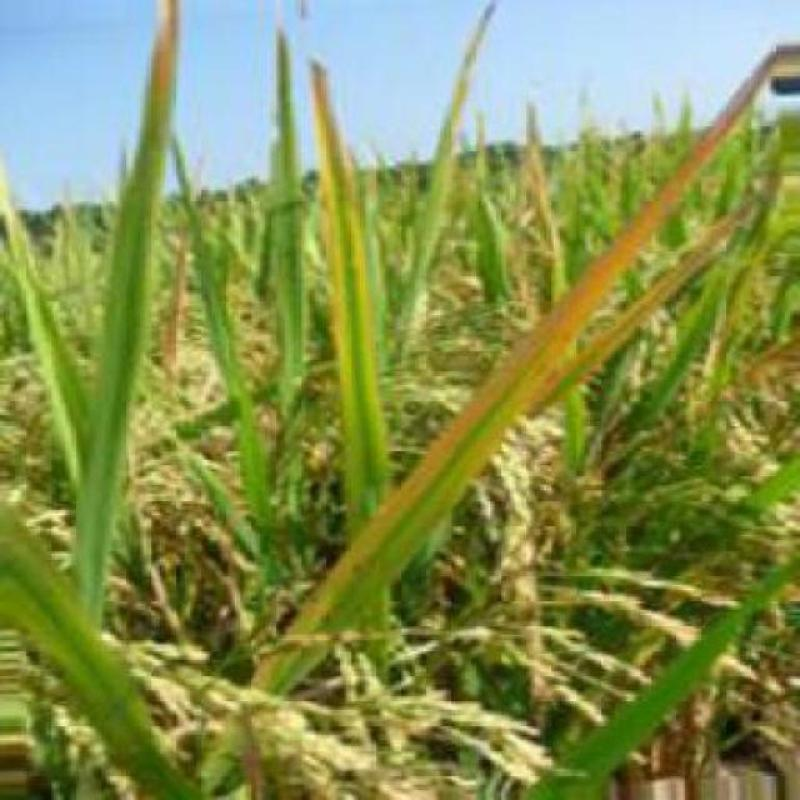Rice Tungro: (272, 50, 782, 669), (298, 56, 394, 460), (112, 4, 194, 135)
